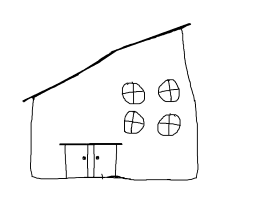closed_window: (119, 106, 148, 138), (155, 109, 184, 137), (157, 78, 184, 106), (122, 78, 148, 107)
door: (58, 137, 127, 183)
single_line_roof: (15, 22, 210, 79)
wall: (25, 77, 199, 184)
